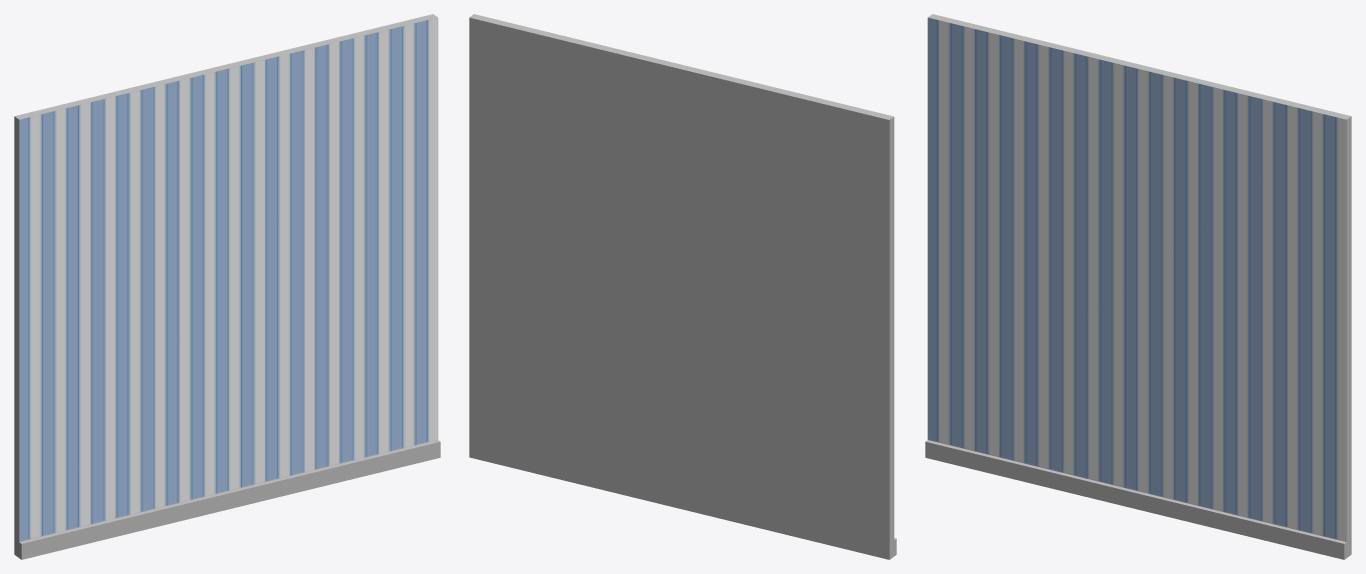
The model's file is Wall_WP_01.FBX.
The picture shows the model from 3 angles, left to right: view 1: azimuth 30°, elevation 25°; view 2: azimuth 150°, elevation 25°; view 3: azimuth 330°, elevation 25°; orthographic projection.
Parts seen in each view (by area): view 1: Wall_WP_01_5m; view 2: Wall_WP_01_5m; view 3: Wall_WP_01_5m.
Part boxes in pixels (x1,y1,x2,y2): Wall_WP_01_5m: (14, 14, 440, 559); Wall_WP_01_5m: (469, 14, 896, 559); Wall_WP_01_5m: (925, 14, 1351, 559).
Size of the model in its own units: 19685 by 19685 by 591.
